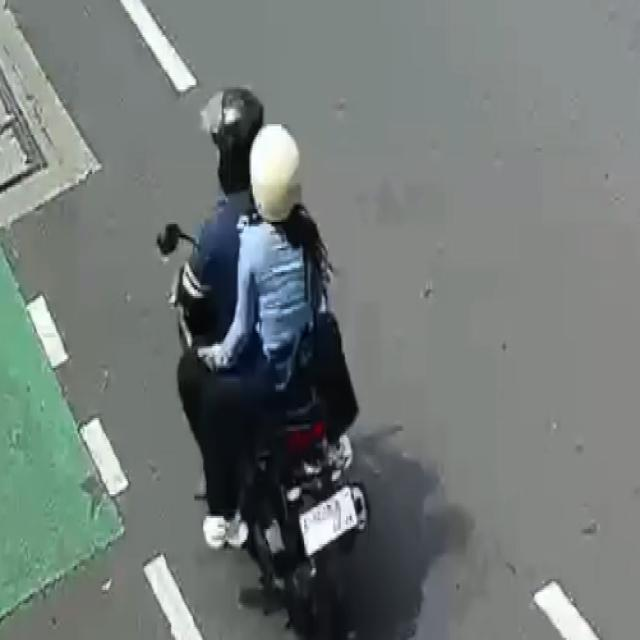helm: (189, 75, 267, 202), (249, 110, 307, 233)
motor: (154, 75, 368, 635)
spion: (155, 207, 224, 278)
